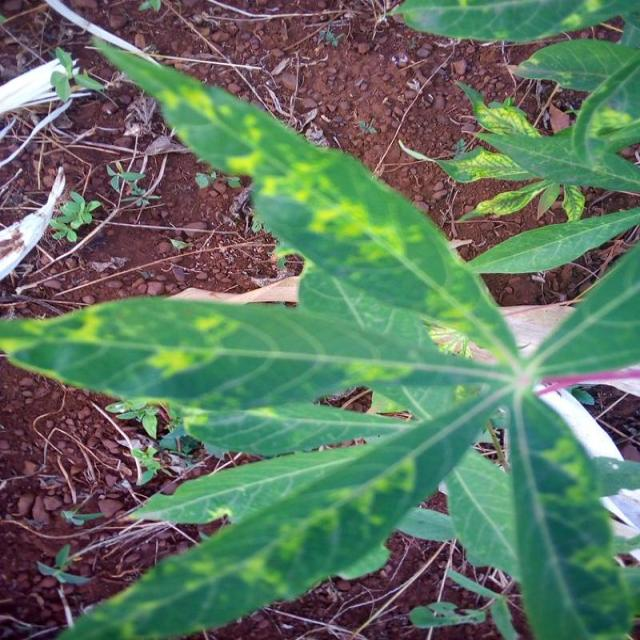cassava leaf: (1, 28, 638, 638)
